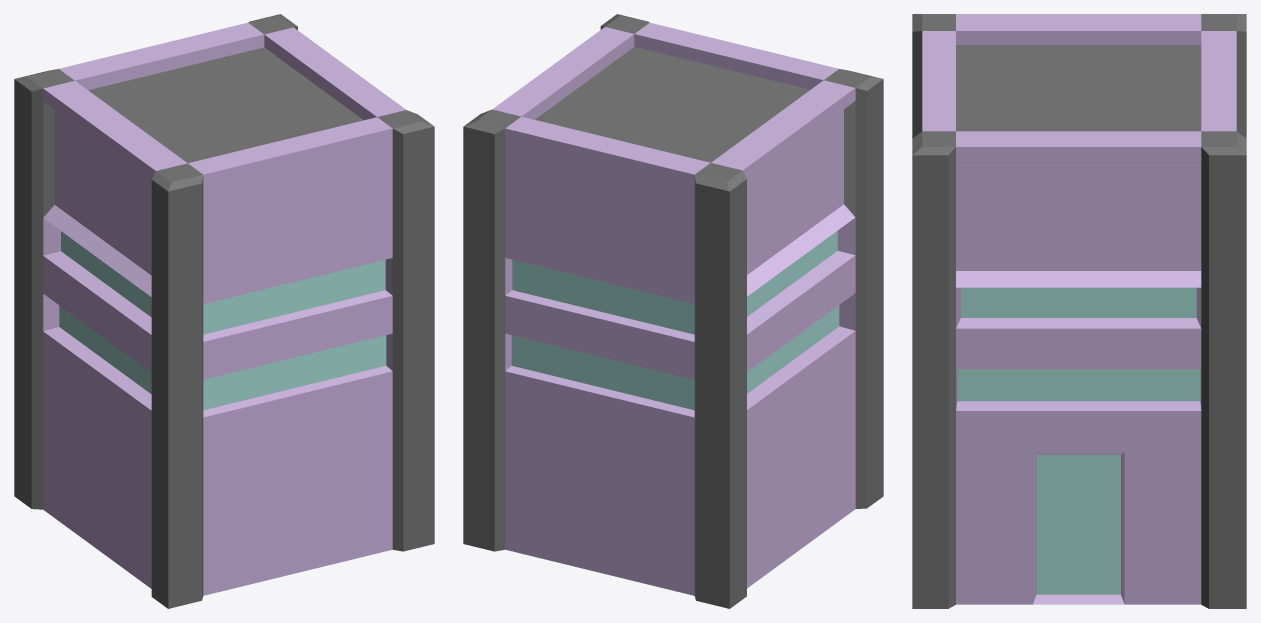
Rendered from Building 1.fbx.
3 renders of one model, left to right at view 1: azimuth 30°, elevation 25°; view 2: azimuth 150°, elevation 25°; view 3: azimuth 270°, elevation 25°, orthographic. The views are drawn at different scales.
Parts seen in each view (by area): view 1: pCube3; view 2: pCube3; view 3: pCube3.
Boxes of the visible parts, x1=… form: pCube3: x1=14, y1=14, x2=434, y2=608; pCube3: x1=463, y1=14, x2=883, y2=608; pCube3: x1=912, y1=14, x2=1246, y2=608.
Size of the model in its own units: 6.46 by 9.76 by 6.46.
